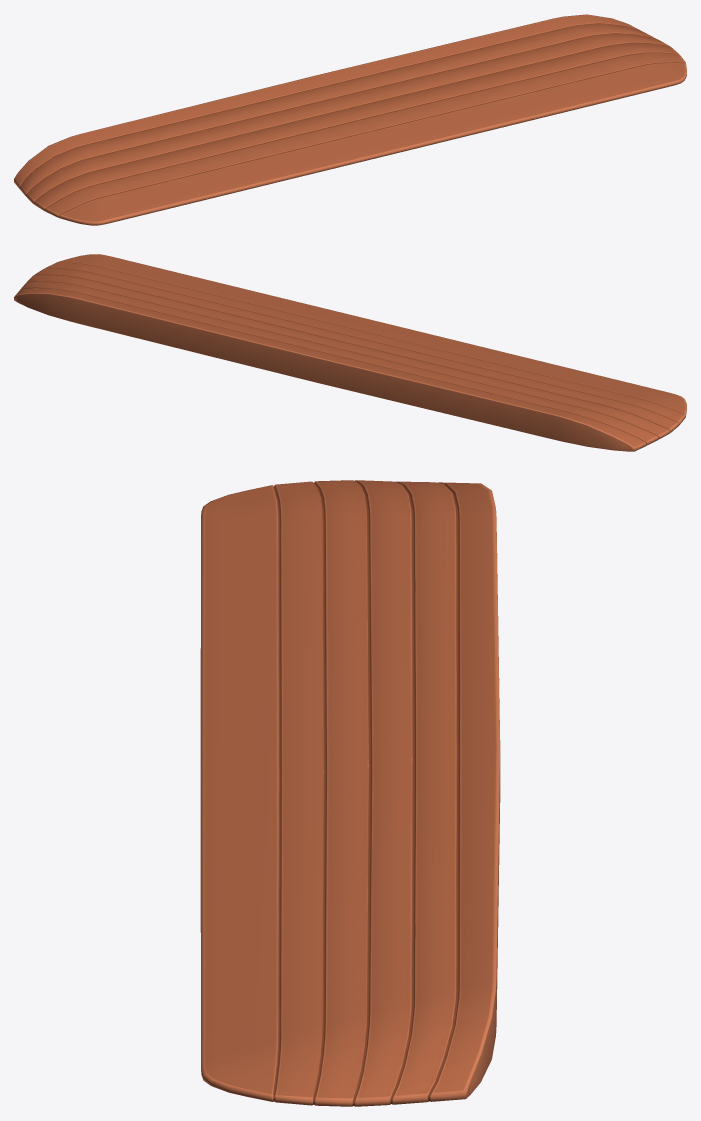
Rendered from 5_ダイヤスロープ10.glb.
The picture shows the model from 3 angles, top to bottom: view 1: azimuth 30°, elevation 25°; view 2: azimuth 150°, elevation 25°; view 3: azimuth 270°, elevation 25°; orthographic projection. The views are drawn at different scales.
Parts seen in each view (by area): view 1: Cube.001; view 2: Cube.001; view 3: Cube.001.
Part boxes in pixels (x1,y1,x2,y2): Cube.001: (14,14,686,225); Cube.001: (14,254,686,451); Cube.001: (200,480,500,1106).
Size of the model in its own units: 0.8 by 0.03 by 0.163.
Materials: 1 (1 with a texture image).
